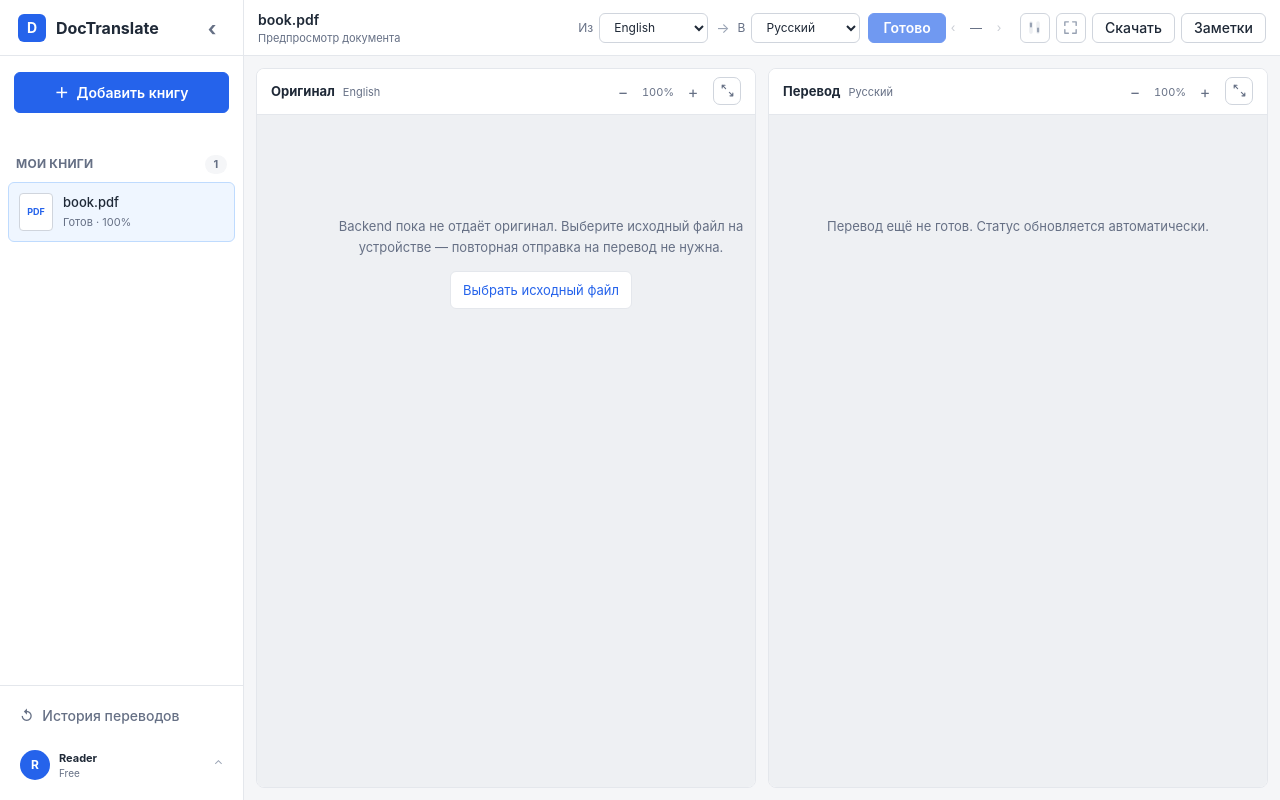
translation download UI › uses a fallback name when backend omits Content-Disposition
The width and height of the screenshot is (1280, 800).
Step 1. Click the button "Скачать" → (1133,28), box [1092,12,1175,42]
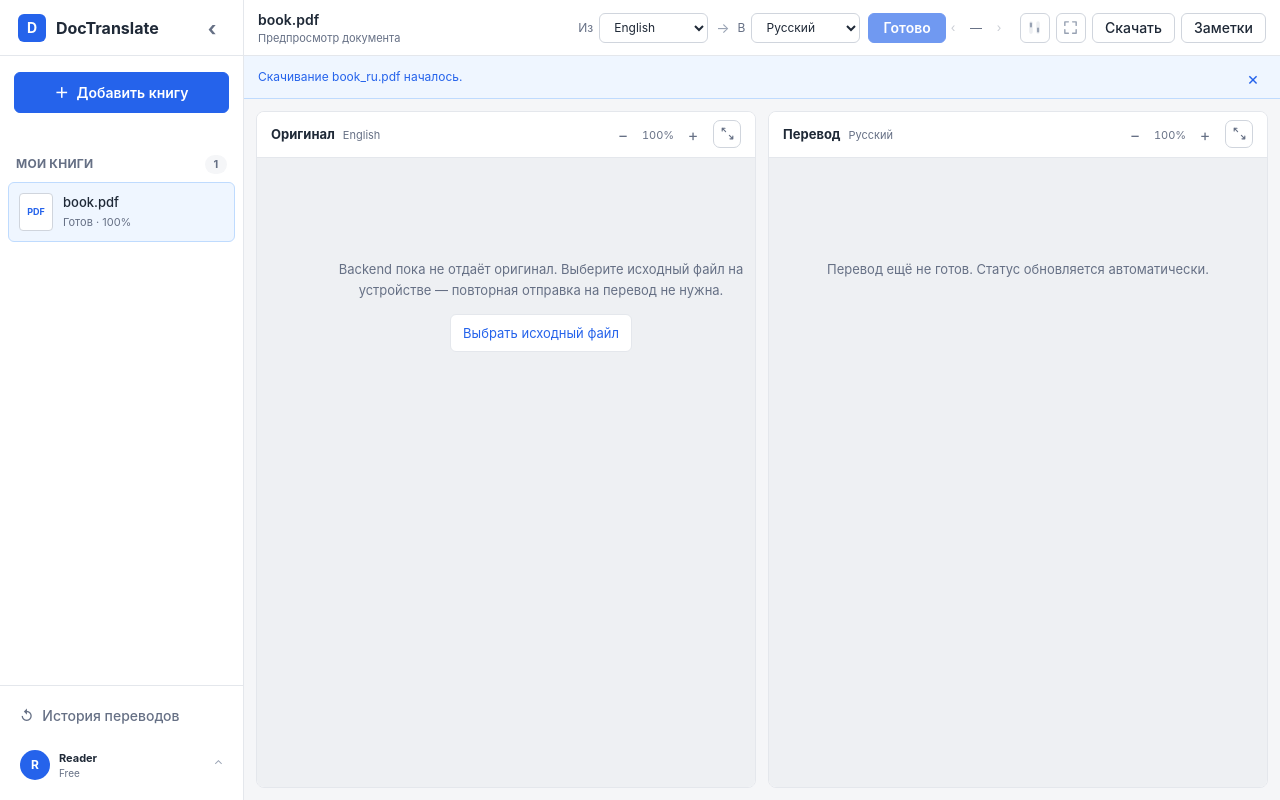
Expected: the text "Скачивание book_ru.pdf началось." is shown, [258,69,462,84]
